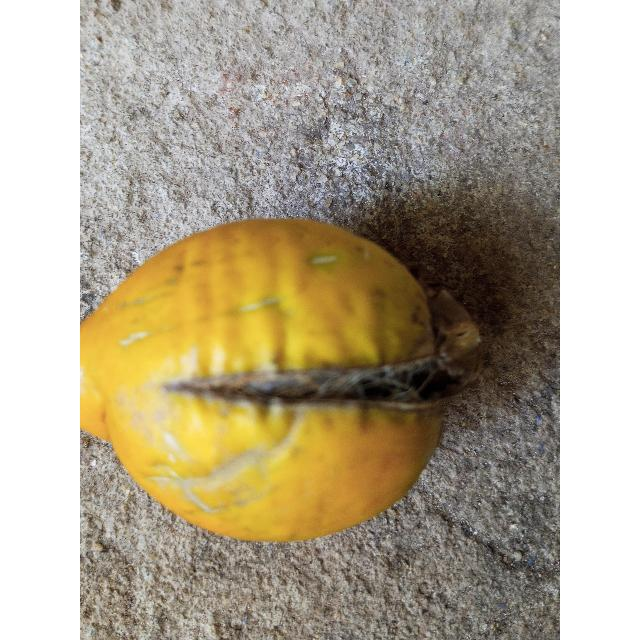damaged: (80, 219, 481, 546)
